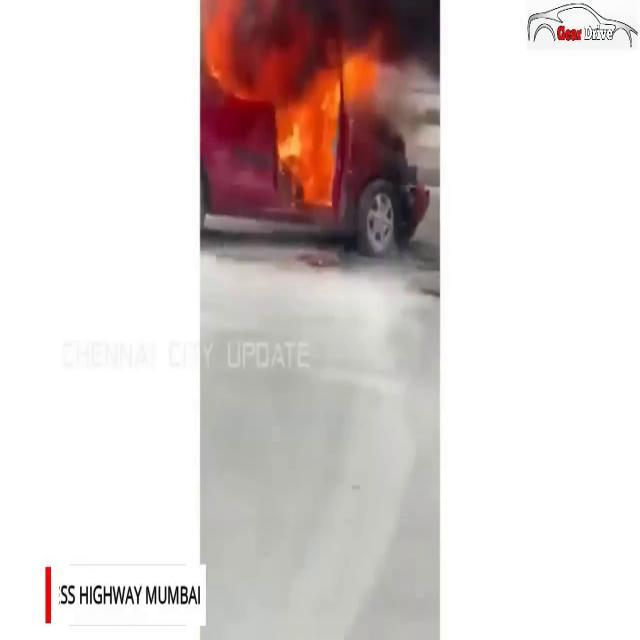Fire: (201, 2, 390, 212)
